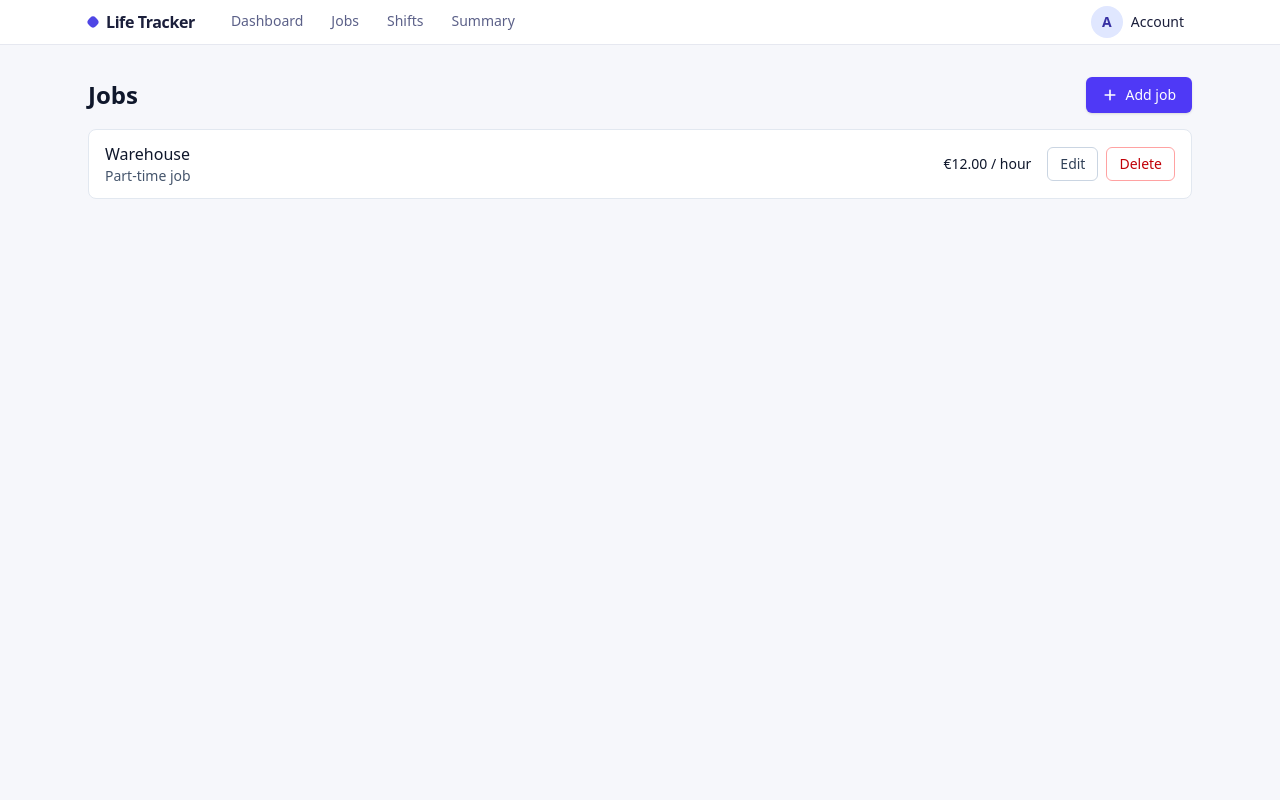
Test case: JobsPage › keeps the edit dialog open and shows the server's error when saving fails
Expected: the list "Warehouse Part-time job €12.00 / hour Edit Delete" is shown, x1=88 y1=129 x2=1192 y2=199
Click the button with aria-label "Edit Warehouse" at x=1073, y=164, box x1=1047 y1=147 x2=1098 y2=181
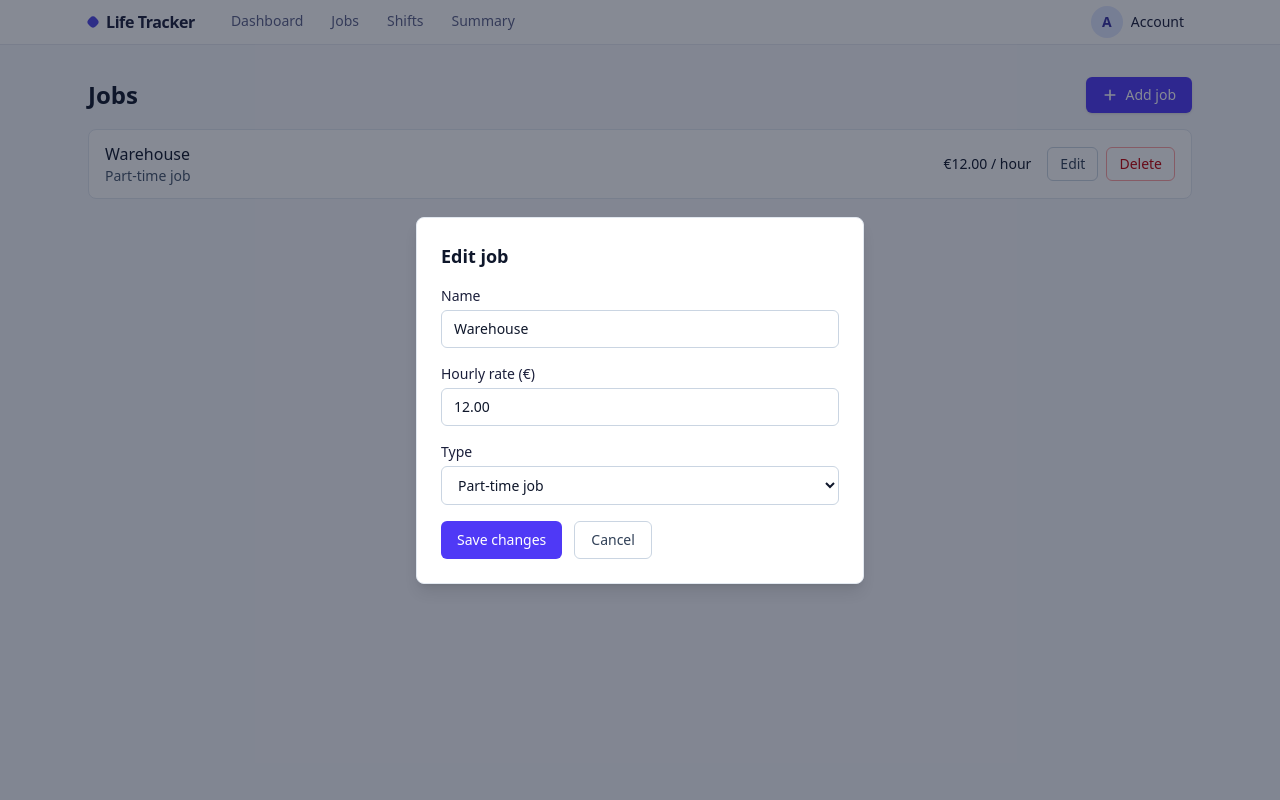
Click the button "Save changes" at x=502, y=540, box x1=441 y1=520 x2=562 y2=558
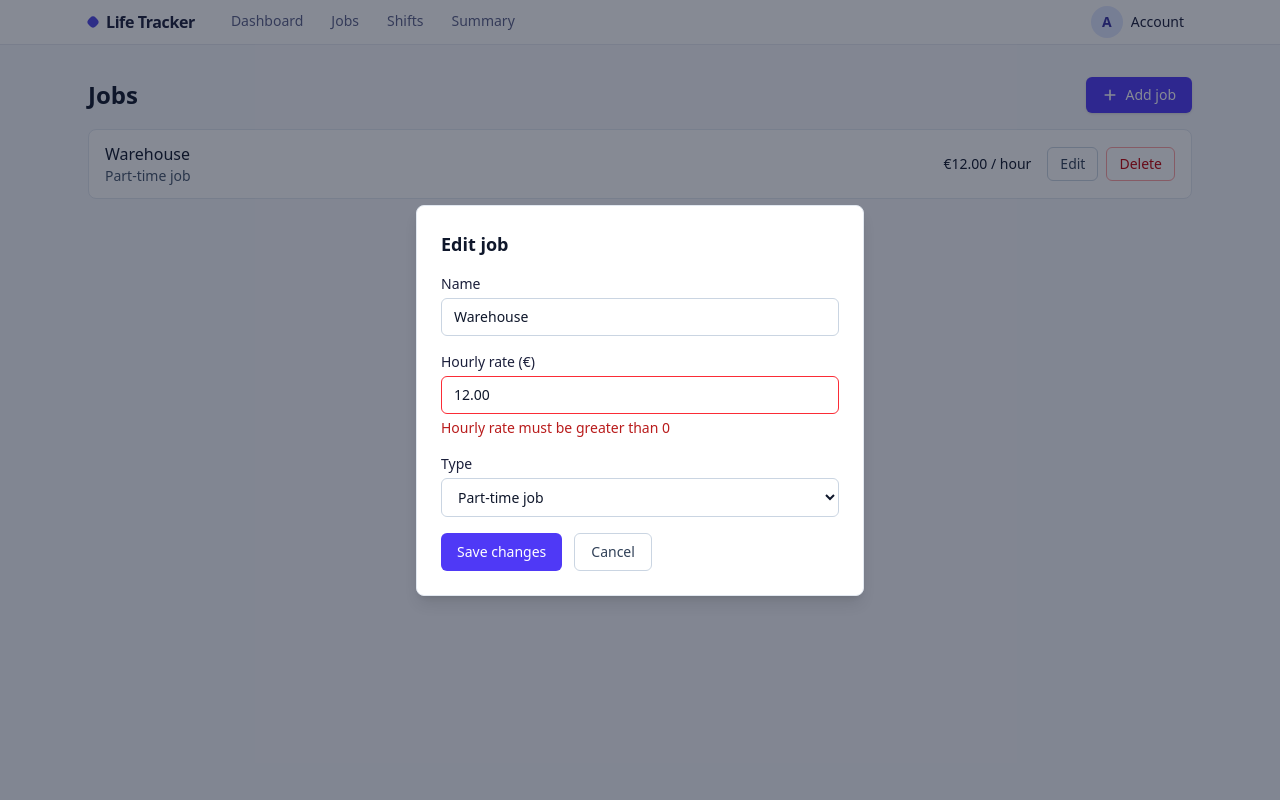
Expected: the dialog "Edit job" is shown, x1=416 y1=204 x2=864 y2=596
Expected: the text "Hourly rate must be greater than 0" is shown, x1=441 y1=418 x2=670 y2=436
